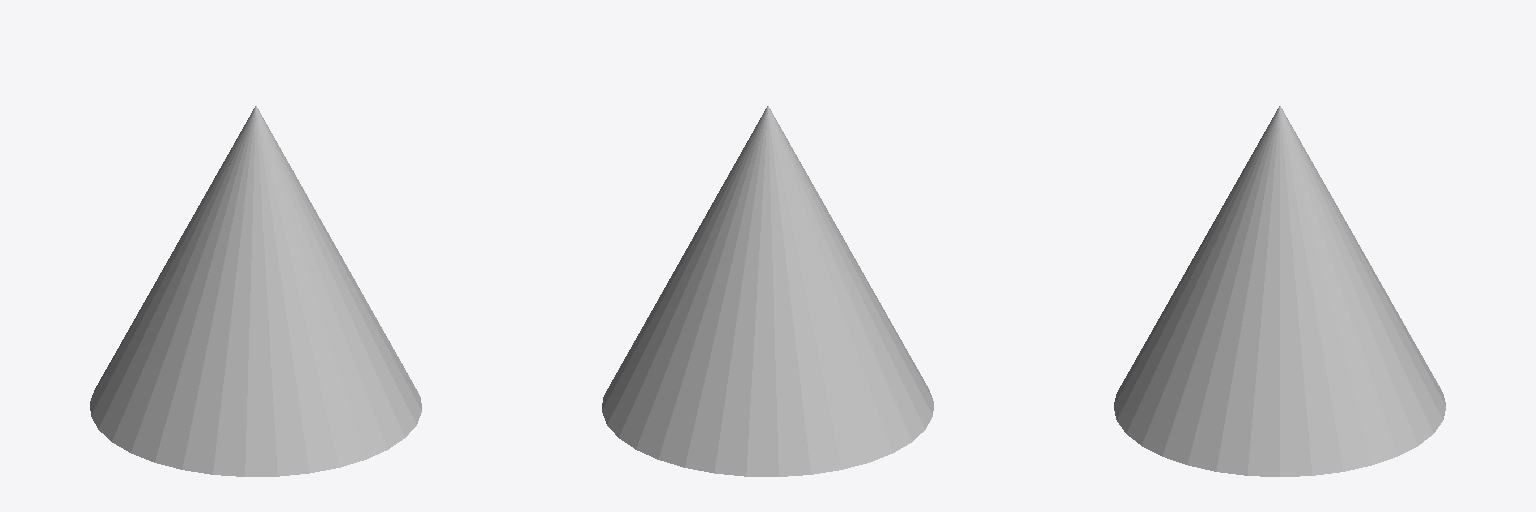
The model's file is arrow_cone.obj.
3 renders of one model, left to right at view 1: azimuth 30°, elevation 25°; view 2: azimuth 150°, elevation 25°; view 3: azimuth 270°, elevation 25°, orthographic.
Parts seen in each view (by area): view 1: Cone; view 2: Cone; view 3: Cone.
Part boxes in pixels (x1,y1,x2,y2): Cone: (90, 106, 421, 476); Cone: (602, 106, 933, 476); Cone: (1114, 106, 1445, 476).
Bounding box in the file's own units: 0.7337 × 0.7337 × 0.7337.